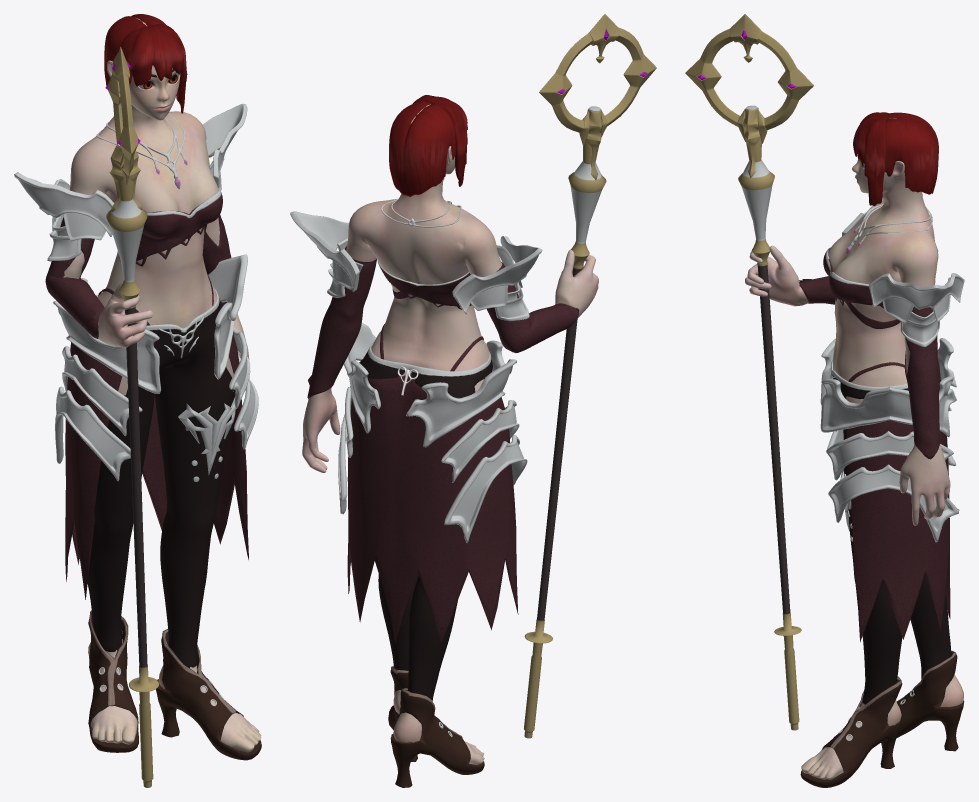
The model's file is female_wizard.glb.
3 views of the same model, side by side, from view 1: azimuth 30°, elevation 25°; view 2: azimuth 150°, elevation 25°; view 3: azimuth 270°, elevation 25° (orthographic). The views are drawn at different scales.
Parts seen in each view (by area): view 1: g (×2); view 2: g (×2); view 3: g (×2).
Boxes of the visible parts, x1,y1,x2,y2 form: g (×2): [14, 14, 261, 787]; g (×2): [290, 14, 656, 787]; g (×2): [685, 14, 964, 787].
Bounding box in the file's own units: 0.6871 × 1.99 × 0.7259.
8 materials, 8 textured.
